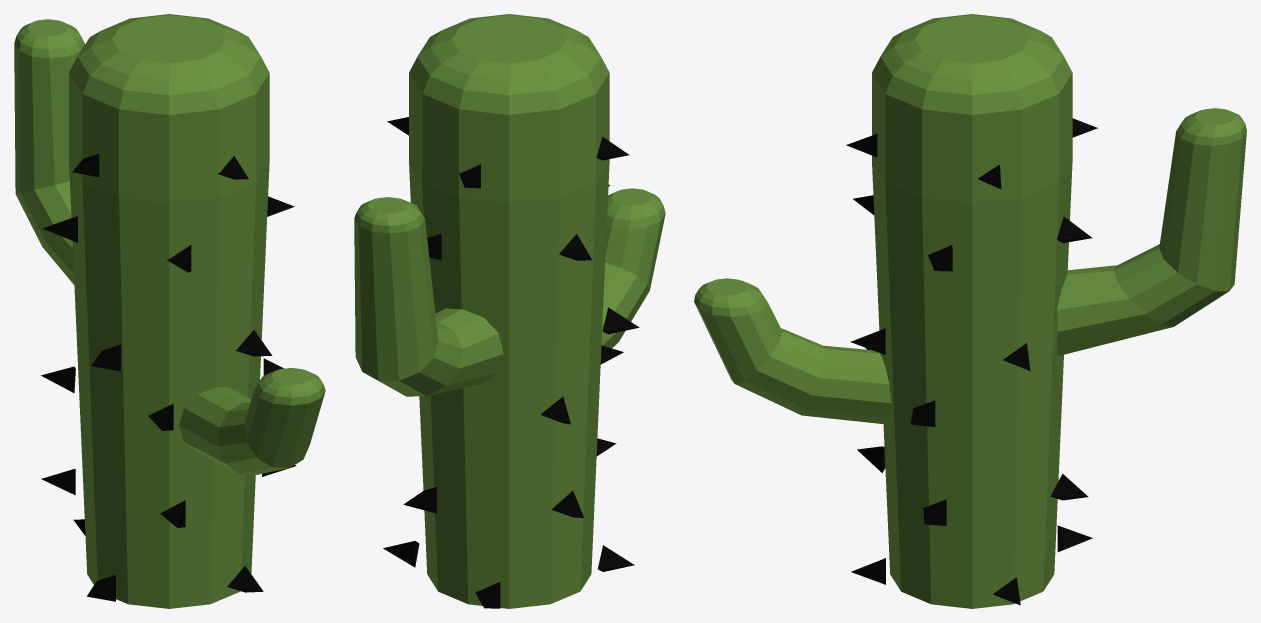
Rendered from LowPolyCactus_1.fbx.
The picture shows the model from 3 angles, left to right: view 1: azimuth 30°, elevation 25°; view 2: azimuth 150°, elevation 25°; view 3: azimuth 270°, elevation 25°; orthographic projection.
Parts seen in each view (by area): view 1: Cylinder, Cylinder.002, Cylinder.001, Cone.021; view 2: Cylinder, Cylinder.002, Cylinder.001, Cone.021; view 3: Cylinder, Cylinder.002, Cylinder.001, Cone.021.
Boxes of the visible parts, x1,y1,x2,y2 form: Cylinder: (69, 14, 269, 608); Cylinder.002: (14, 19, 84, 284); Cylinder.001: (179, 368, 325, 475); Cone.021: (41, 153, 296, 601); Cylinder: (409, 14, 609, 608); Cylinder.002: (354, 197, 503, 396); Cylinder.001: (601, 188, 665, 348); Cone.021: (383, 117, 639, 608); Cylinder: (872, 14, 1072, 608); Cylinder.002: (1057, 108, 1246, 355); Cylinder.001: (694, 278, 891, 424); Cone.021: (846, 118, 1097, 605).
Bounding box in the file's own units: 249 × 588 × 551.
